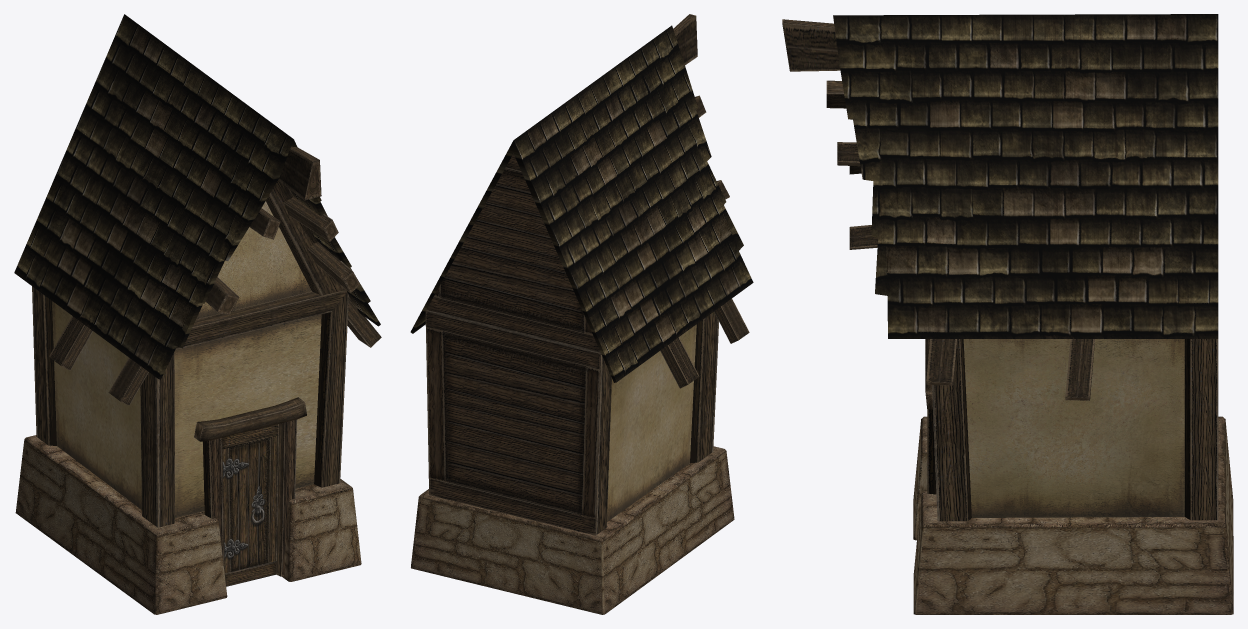
Rendered from House_Entry_04.fbx.
3 renders of one model, left to right at view 1: azimuth 30°, elevation 25°; view 2: azimuth 150°, elevation 25°; view 3: azimuth 270°, elevation 25°, orthographic. The views are drawn at different scales.
Visible parts, largest first — view 1: House_Entry_04; view 2: House_Entry_04; view 3: House_Entry_04.
Boxes of the visible parts, x1=… form: House_Entry_04: x1=14, y1=14, x2=381, y2=614; House_Entry_04: x1=410, y1=14, x2=753, y2=614; House_Entry_04: x1=782, y1=14, x2=1233, y2=614.
Bounding box in the file's own units: 4.89 × 8.43 × 6.35.
